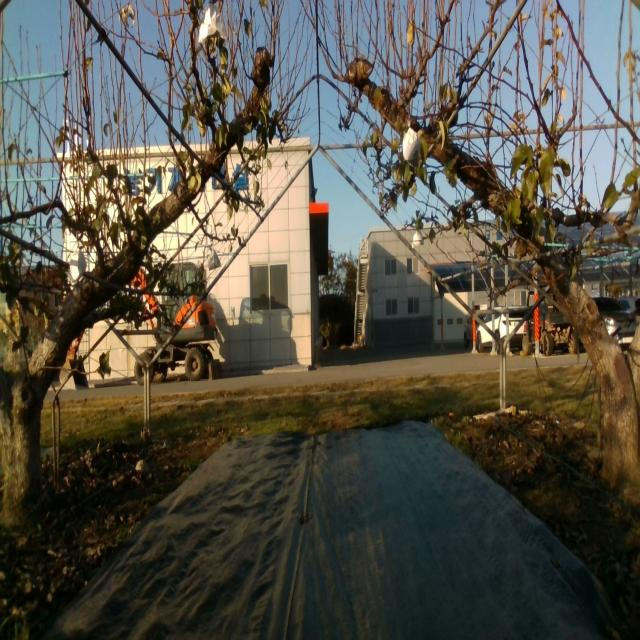pearbags: (197, 5, 227, 42), (403, 127, 418, 170), (70, 245, 86, 281), (207, 246, 221, 272), (412, 229, 424, 251)
